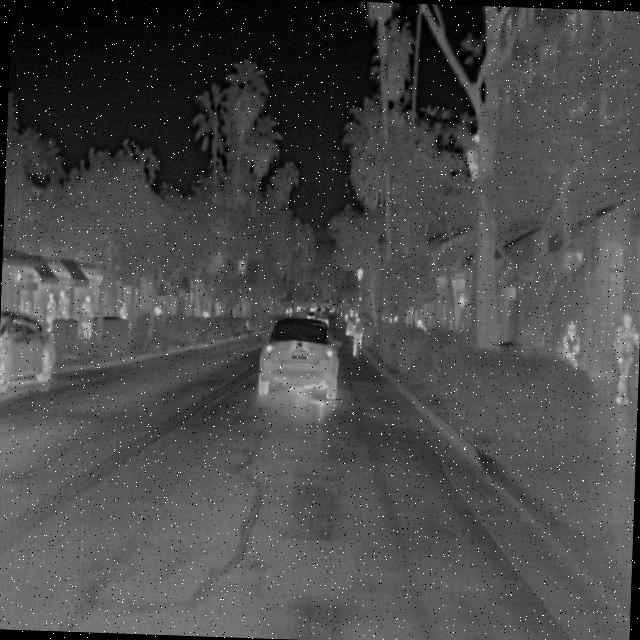Pedestrian: (608, 307, 639, 408), (557, 316, 583, 368), (78, 294, 96, 345), (350, 316, 365, 362), (42, 290, 58, 332), (56, 289, 72, 326), (118, 300, 129, 322)
Vehicle: (254, 310, 342, 403), (0, 306, 57, 396)
